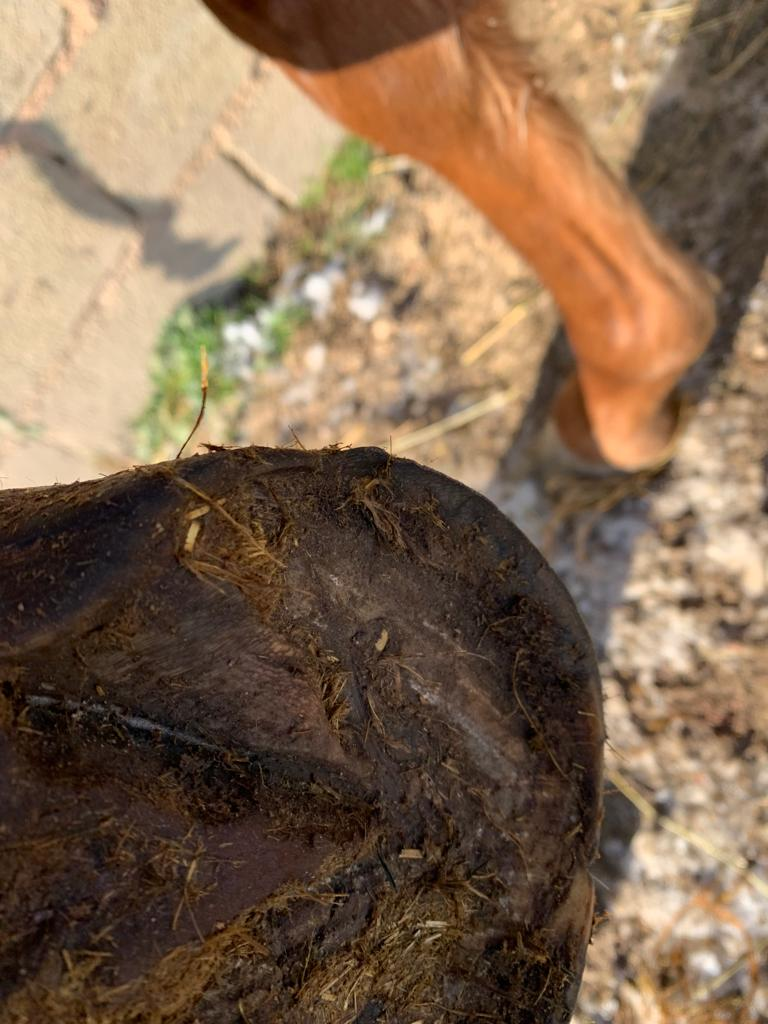horsesole: (1, 445, 606, 1020)
